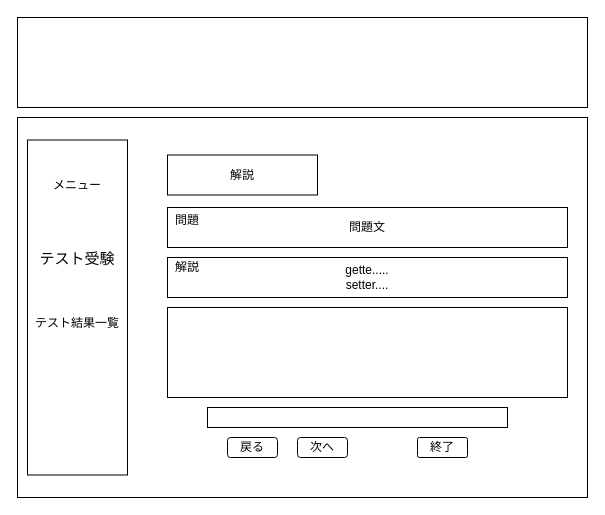
Image size: 605x515. Some labels were removed from this diagram. The centre of each missing label's shape, as x and y in pixels:
"ヘッダ" goes at [302,62].
"問題正誤表(o.x)" goes at [357,417].
"選択肢に対する解説" goes at [367,352].
